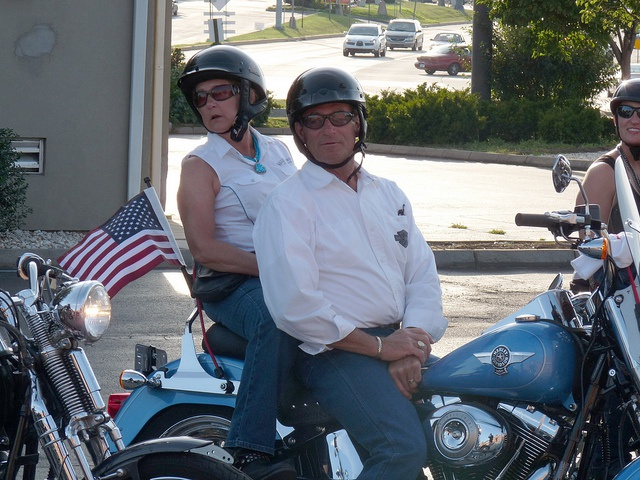non-vehicle: (118, 155, 639, 473), (2, 247, 256, 474)
